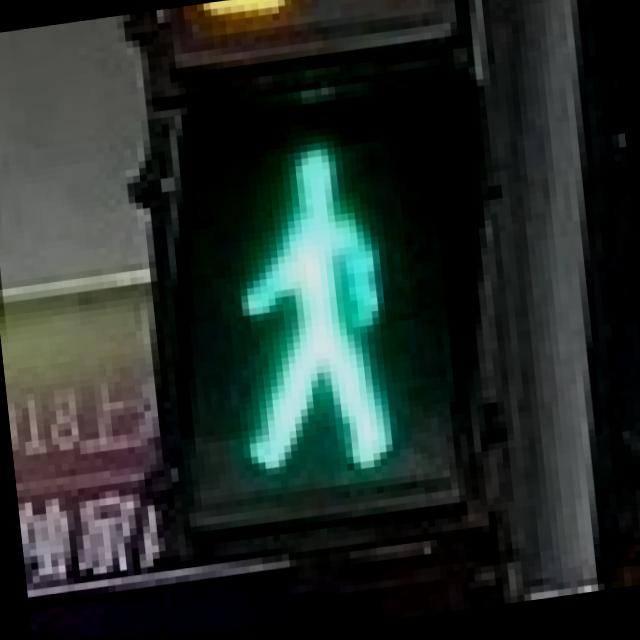green_light: (132, 60, 486, 544)
